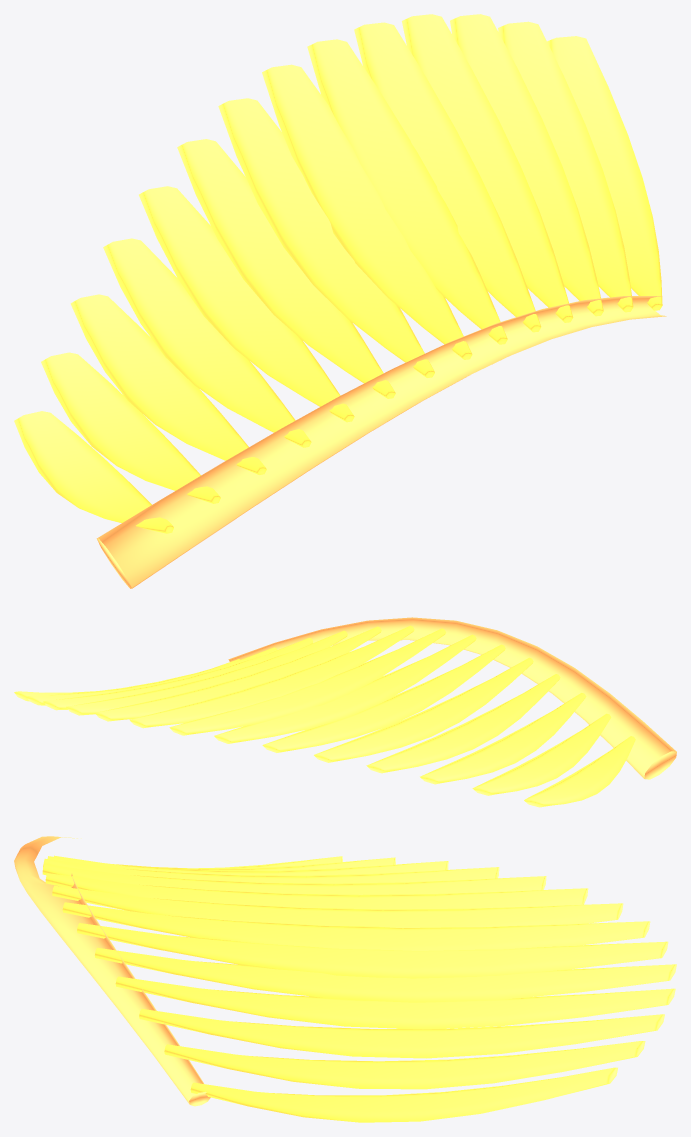
The model's file is phoenix_wing_r.glb.
The picture shows the model from 3 angles, top to bottom: view 1: azimuth 30°, elevation 25°; view 2: azimuth 150°, elevation 25°; view 3: azimuth 270°, elevation 25°; orthographic projection. The views are drawn at different scales.
Parts seen in each view (by area): view 1: phoenix_wing_r; view 2: phoenix_wing_r; view 3: phoenix_wing_r.
Part boxes in pixels (x1,y1,x2,y2): phoenix_wing_r: [14, 14, 666, 588]; phoenix_wing_r: [14, 617, 676, 807]; phoenix_wing_r: [14, 836, 676, 1122].
Size of the model in its own units: 2.28 by 0.553 by 1.79.
